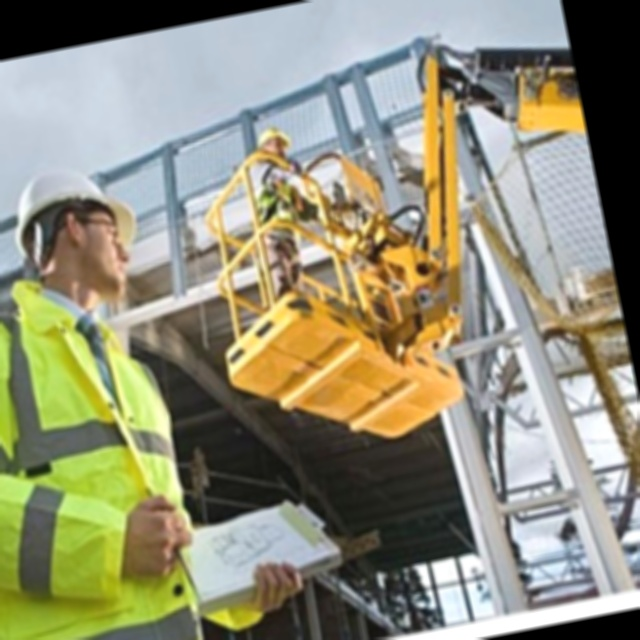Con_Chaleco: (0, 267, 209, 640)
